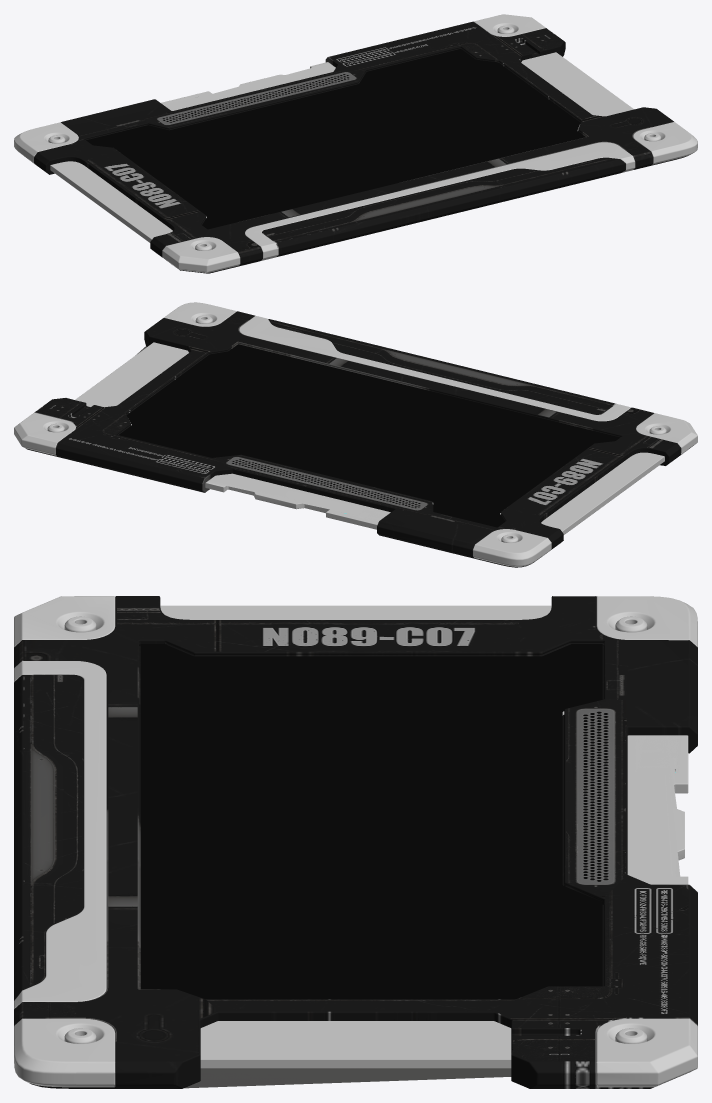
Rendered from Tablet.fbx.
3 views of the same model, one above another, from view 1: azimuth 30°, elevation 25°; view 2: azimuth 150°, elevation 25°; view 3: azimuth 270°, elevation 25° (orthographic). The views are drawn at different scales.
Visible parts, largest first — view 1: Cube.006; view 2: Cube.006; view 3: Cube.006.
Part boxes in pixels (x1,y1,x2,y2): Cube.006: (14,14,697,273); Cube.006: (14,302,697,567); Cube.006: (14,596,697,1088).
Bounding box in the file's own units: 360 × 10.11 × 220.
